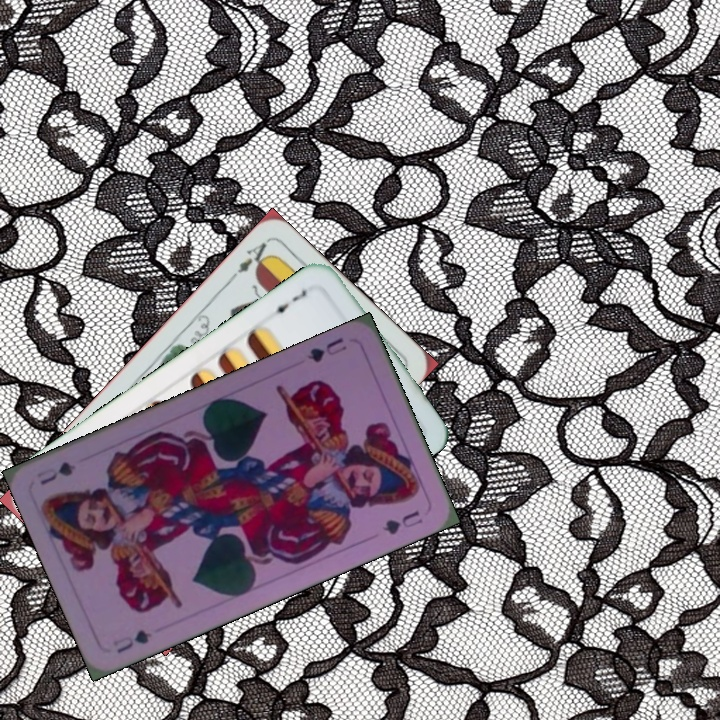E7: (266, 284, 311, 318)
EA: (225, 238, 274, 284)
GU: (303, 333, 350, 365), (109, 625, 155, 656)
